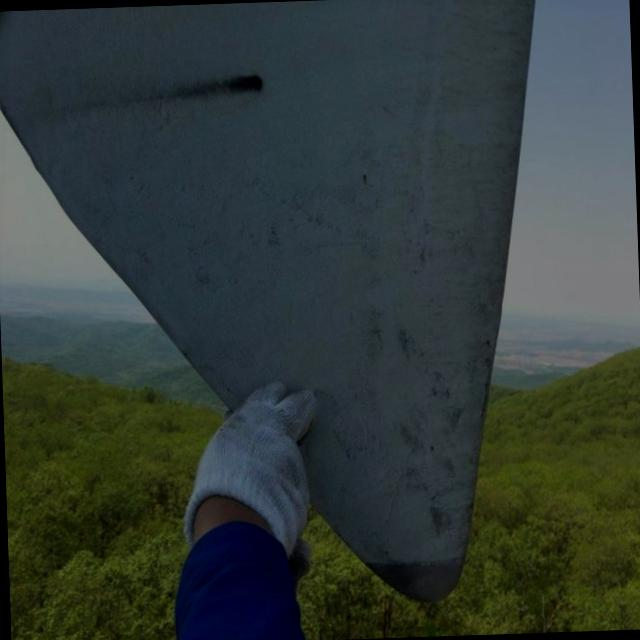crack: (177, 72, 268, 102)
